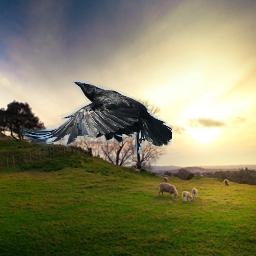Crow: (20, 80, 172, 154)
